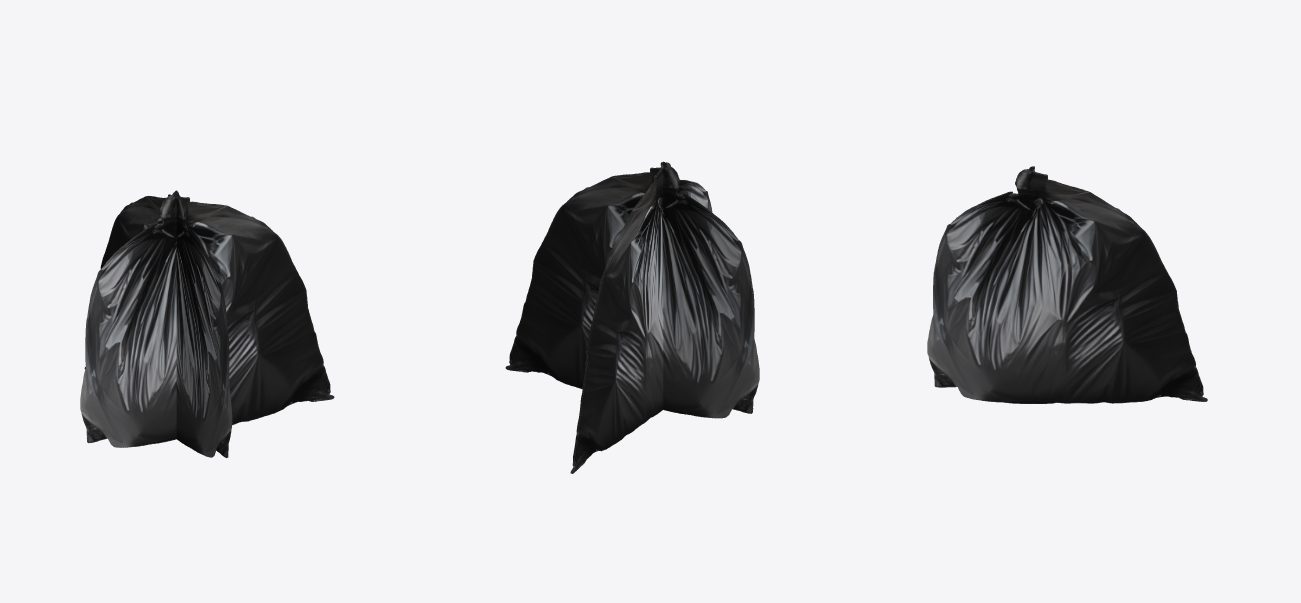
Rendered from [NEW]trash2_model.fbx.
The picture shows the model from 3 angles, left to right: view 1: azimuth 30°, elevation 25°; view 2: azimuth 150°, elevation 25°; view 3: azimuth 270°, elevation 25°; orthographic projection. The views are drawn at different scales.
Parts seen in each view (by area): view 1: 쓰레기2, 쓰레기2.001; view 2: 쓰레기2, 쓰레기2.001; view 3: 쓰레기2.001.
Part boxes in pixels (left/top/right/bottom): 쓰레기2: left=80, top=191, right=334, bottom=447; 쓰레기2.001: left=84, top=190, right=232, bottom=457; 쓰레기2: left=505, top=161, right=759, bottom=418; 쓰레기2.001: left=570, top=162, right=712, bottom=473; 쓰레기2.001: left=927, top=166, right=1207, bottom=403.
Size of the model in its own units: 100 by 100 by 100.
